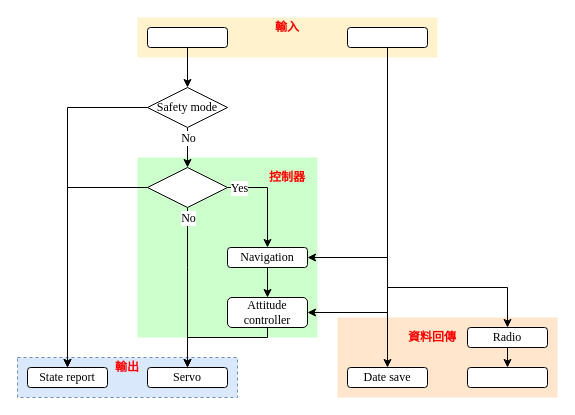
This 575x415 diagram has some shape labels left out. Here are the shapes that lost their labels. From the top down, the centre of each, then its label:
the point at 187,37: Receiver
the point at 387,37: Sensor
the point at 187,187: Autocontrol
the point at 507,377: Ground station
